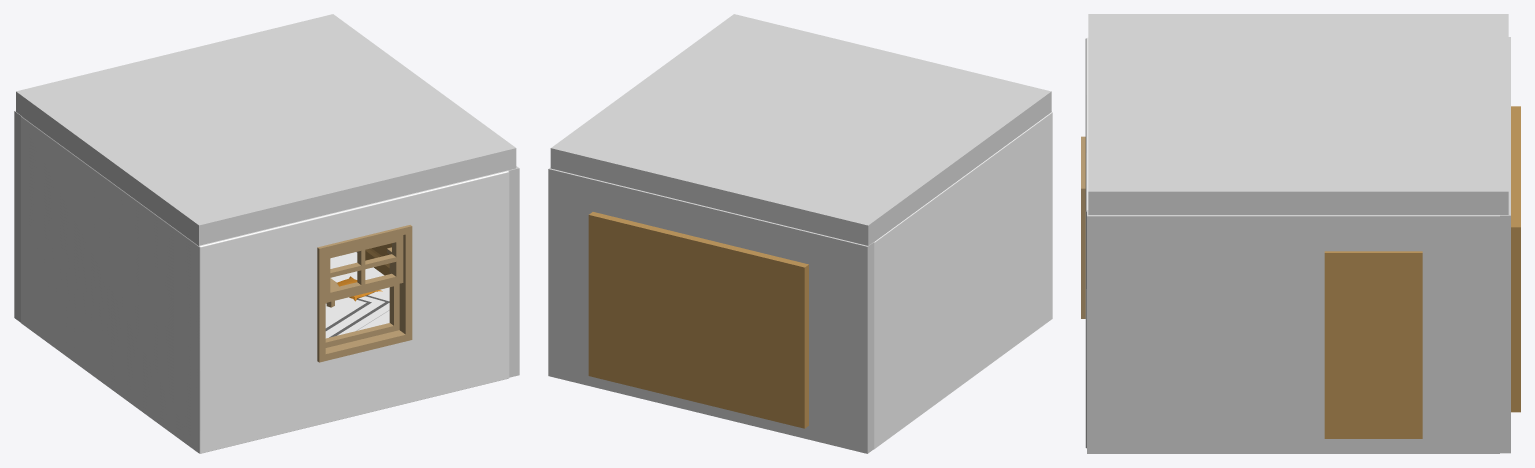
File: bedroom3.glb
3 renders of one model, left to right at view 1: azimuth 30°, elevation 25°; view 2: azimuth 150°, elevation 25°; view 3: azimuth 270°, elevation 25°, orthographic. The views are drawn at different scales.
Parts seen in each view (by area): view 1: Wall, Cube.001, Window, Plane, Carpet, Plane.001, Floor; view 2: Cube.001, Wall, Cube, Plane.001; view 3: Cube.001, Plane, Door, Plane.001, Cube, Wall, Window.
Part boxes in pixels (box(x1,y1,x2,y2)): Wall: box(21, 116, 509, 453); Cube.001: box(16, 14, 516, 245); Window: box(317, 225, 412, 362); Plane: box(356, 166, 519, 377); Carpet: box(325, 293, 389, 338); Plane.001: box(14, 110, 21, 322); Floor: box(330, 252, 389, 330); Cube.001: box(550, 14, 1051, 245); Wall: box(874, 112, 1052, 448); Cube: box(588, 212, 808, 428); Plane.001: box(548, 167, 874, 453); Cube.001: box(1088, 14, 1508, 214); Plane: box(1087, 210, 1499, 453); Door: box(1324, 251, 1422, 438); Plane.001: box(1495, 37, 1510, 453); Cube: box(1511, 106, 1520, 412); Wall: box(1085, 37, 1088, 448); Window: box(1081, 136, 1085, 318).
Size of the model in its own units: 8.74 by 5.9 by 8.97.
